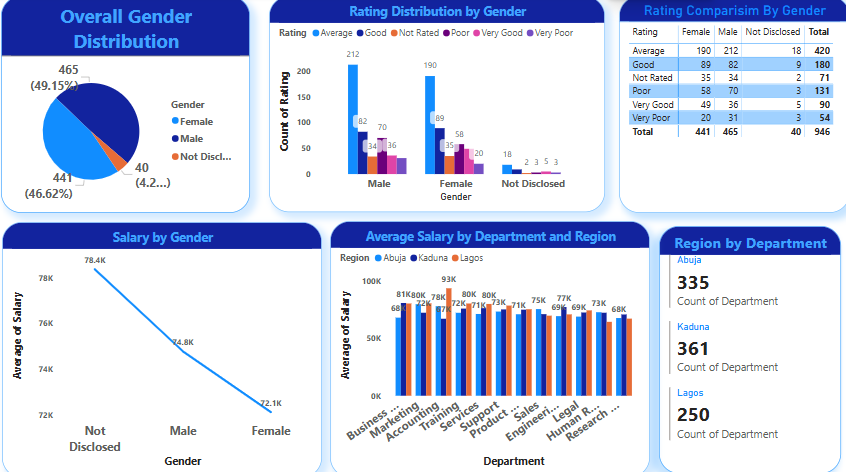

Layout of this report page (visuals, bound fields, positions):
{"tool":"powerbi","page":{"name":"Page 2","canvas":[1280,720],"ordinal":1},"visuals":[{"type":"pivotTable","title":"Rating Comparisim By Gender","fields":{"Rows":["Victoria DSA Project Analysis Case #.Rating"],"Columns":["Victoria DSA Project Analysis Case #.Gender"],"Values":["Victoria DSA Project Analysis Case #.Employee"]},"box":[935,0,345,323.6],"z":0},{"type":"lineClusteredColumnComboChart","title":" Rating Distribution by Gender","fields":{"Category":["Victoria DSA Project Analysis Case #.Gender"],"Series":["Victoria DSA Project Analysis Case #.Rating"],"Y":["Victoria DSA Project Analysis Case #.Rating"]},"box":[411.7,0,501.7,323.3],"z":1000},{"type":"pieChart","title":"Overall Gender Distribution","fields":{"Category":["Victoria DSA Project Analysis Case #.Gender"],"Y":["Victoria DSA Project Analysis Case #.Department"]},"box":[12.5,0,371.8,323.6],"z":2000},{"type":"lineChart","title":"Salary by Gender","fields":{"Category":["Victoria DSA Project Analysis Case #.Gender"],"Y":["Victoria DSA Project Analysis Case #.Salary"]},"box":[13.3,338.3,478.3,381.7],"z":3000},{"type":"multiRowCard","title":"Region by Department","fields":{"Values":["Victoria DSA Project Analysis Case #.Region","Victoria DSA Project Analysis Case #.Department"]},"box":[995,343.3,271.7,370],"z":4000},{"type":"clusteredColumnChart","title":"Average Salary by Department and Region","fields":{"Category":["Victoria DSA Project Analysis Case #.Department"],"Y":["Victoria DSA Project Analysis Case #.Salary"],"Series":["Victoria DSA Project Analysis Case #.Region"]},"box":[503.3,336.7,478.3,383.3],"z":5000}]}

Visuals, with their boxes in screenshot pixels (x1, y1, x2, y2), scaled from the page's 1280x720 canvas onto the 846x472 screenshot:
"Rating Comparisim By Gender" pivotTable: [x1=618, y1=0, x2=845, y2=212]
" Rating Distribution by Gender" lineClusteredColumnComboChart: [x1=272, y1=0, x2=604, y2=212]
"Overall Gender Distribution" pieChart: [x1=8, y1=0, x2=254, y2=212]
"Salary by Gender" lineChart: [x1=9, y1=222, x2=325, y2=471]
"Region by Department" multiRowCard: [x1=658, y1=225, x2=837, y2=468]
"Average Salary by Department and Region" clusteredColumnChart: [x1=333, y1=221, x2=649, y2=471]
